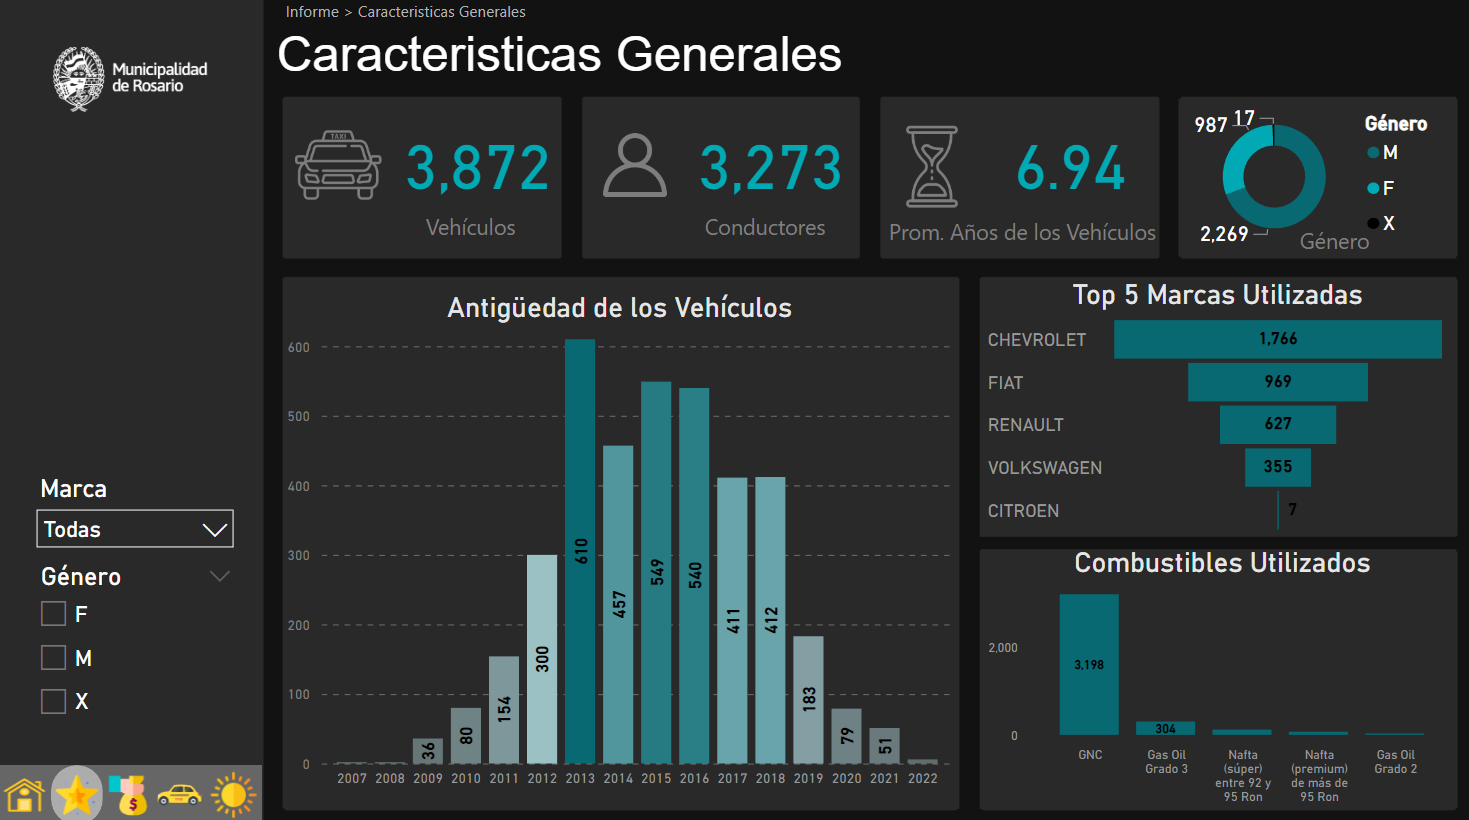

Layout of this report page (visuals, bound fields, positions):
{"tool":"powerbi","page":{"name":"Características generales","canvas":[1280,720],"ordinal":1},"visuals":[{"type":"card","title":"Total Autos","fields":{"Values":["Medidas.Cantidad Conductores"]},"box":[345.5,95,141.8,96.3],"z":0},{"type":"card","title":"Total Conductores","fields":{"Values":["Medidas.Total conductores"]},"box":[597.3,95,145.9,96.3],"z":1000},{"type":"donutChart","title":"Conductores por Género","fields":{"Category":["Taxis Habilitados.genero_titular"],"Y":["Medidas.Total conductores"]},"box":[1024,88.1,246.4,137.6],"z":2000},{"type":"shape","box":[0,668,229,52],"z":3000},{"type":"funnel","title":"Top 5 Marcas Utilizadas","fields":{"Category":["Vehiculos.vehiculo_marca"],"Y":["Medidas.Total Autos"]},"box":[853.3,246.4,408.8,225.7],"z":4000},{"type":"columnChart","title":"Combustibles Utilizados","fields":{"Category":["Combustible.Nombre_combustible"],"Y":["Medidas.Combustibles utilizados"]},"box":[853.3,479,417,229.8],"z":5000},{"type":"textbox","box":[236.7,22,567.1,66.1],"z":6000},{"type":"actionButton","title":"gfhgh","box":[0,667.6,46,52.4],"z":7000},{"type":"actionButton","box":[90.3,667.6,45,52.4],"z":8000},{"type":"actionButton","box":[134.8,667.6,46,52.4],"z":9000},{"type":"actionButton","box":[45.8,667.6,44.5,52.4],"z":10000},{"type":"slicer","fields":{"Values":["Taxis Habilitados.genero_titular"]},"box":[24.3,486.7,190,153.5],"z":11000},{"type":"slicer","fields":{"Values":["Vehiculos.vehiculo_marca"]},"box":[23.4,410.2,191.3,77.1],"z":12000},{"type":"textbox","box":[244.6,0,242,37.3],"z":13000},{"type":"textbox","box":[366.1,183.1,100.5,42.7],"z":14000},{"type":"textbox","box":[608.3,183.1,123.9,42.7],"z":15000},{"type":"image","box":[245,104.6,100.5,85.3],"z":16000},{"type":"image","box":[506.5,108.7,90.8,78.5],"z":17000},{"type":"textbox","box":[1124.5,195.4,85.3,37.2],"z":18000},{"type":"card","title":"Total Conductores","fields":{"Values":["Medidas.Prom. antiguedad taxis"]},"box":[853.3,95,152.8,96.3],"z":19000},{"type":"textbox","box":[768,187.2,256,42.7],"z":20000},{"type":"image","box":[768,108.7,85.3,81.2],"z":21000},{"type":"columnChart","title":"Antigüedad de los Vehículos","fields":{"Y":["Medidas.Taxis por modelo año"],"Category":["Taxis Habilitados.Año Modelo"]},"box":[245,257.4,589.1,436.3],"z":22000},{"type":"actionButton","box":[180.7,667.6,48,52.4],"z":23000},{"type":"image","box":[0,0,229,145.7],"z":24000}]}

Visuals, with their boxes on the page's 1280x720 design canvas (x1, y1, x2, y2). These are canvas units, not pixel positions in the 1469x820 screenshot, which may show the page scaled, cropped or inside an application window:
"Total Autos" card: bbox=(346, 95, 487, 191)
"Total Conductores" card: bbox=(597, 95, 743, 191)
"Conductores por Género" donutChart: bbox=(1024, 88, 1270, 226)
shape: bbox=(0, 668, 229, 720)
"Top 5 Marcas Utilizadas" funnel: bbox=(853, 246, 1262, 472)
"Combustibles Utilizados" columnChart: bbox=(853, 479, 1270, 709)
textbox: bbox=(237, 22, 804, 88)
"gfhgh" actionButton: bbox=(0, 668, 46, 720)
actionButton: bbox=(90, 668, 135, 720)
actionButton: bbox=(135, 668, 181, 720)
actionButton: bbox=(46, 668, 90, 720)
slicer - Taxis Habilitados.genero_titular: bbox=(24, 487, 214, 640)
slicer - Vehiculos.vehiculo_marca: bbox=(23, 410, 215, 487)
textbox: bbox=(245, 0, 487, 37)
textbox: bbox=(366, 183, 467, 226)
textbox: bbox=(608, 183, 732, 226)
image: bbox=(245, 105, 346, 190)
image: bbox=(506, 109, 597, 187)
textbox: bbox=(1124, 195, 1210, 233)
"Total Conductores" card: bbox=(853, 95, 1006, 191)
textbox: bbox=(768, 187, 1024, 230)
image: bbox=(768, 109, 853, 190)
"Antigüedad de los Vehículos" columnChart: bbox=(245, 257, 834, 694)
actionButton: bbox=(181, 668, 229, 720)
image: bbox=(0, 0, 229, 146)
